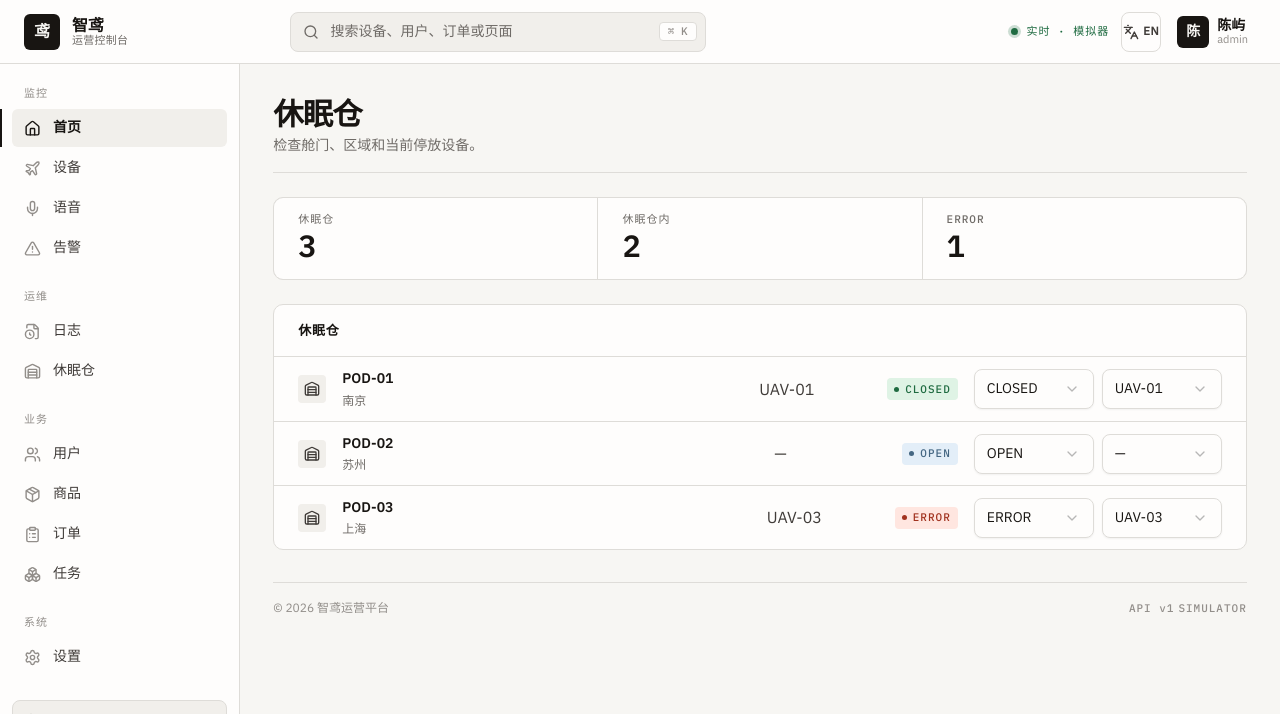
Test case: OperationsView · pods › lists pods and saves a door change
Expected: the 1st heading "休眠仓" is shown, [273, 94, 362, 133]
Select "OPEN" in the dropdown named "POD-01 舱门状态": (1034, 389) [974, 369, 1094, 409]
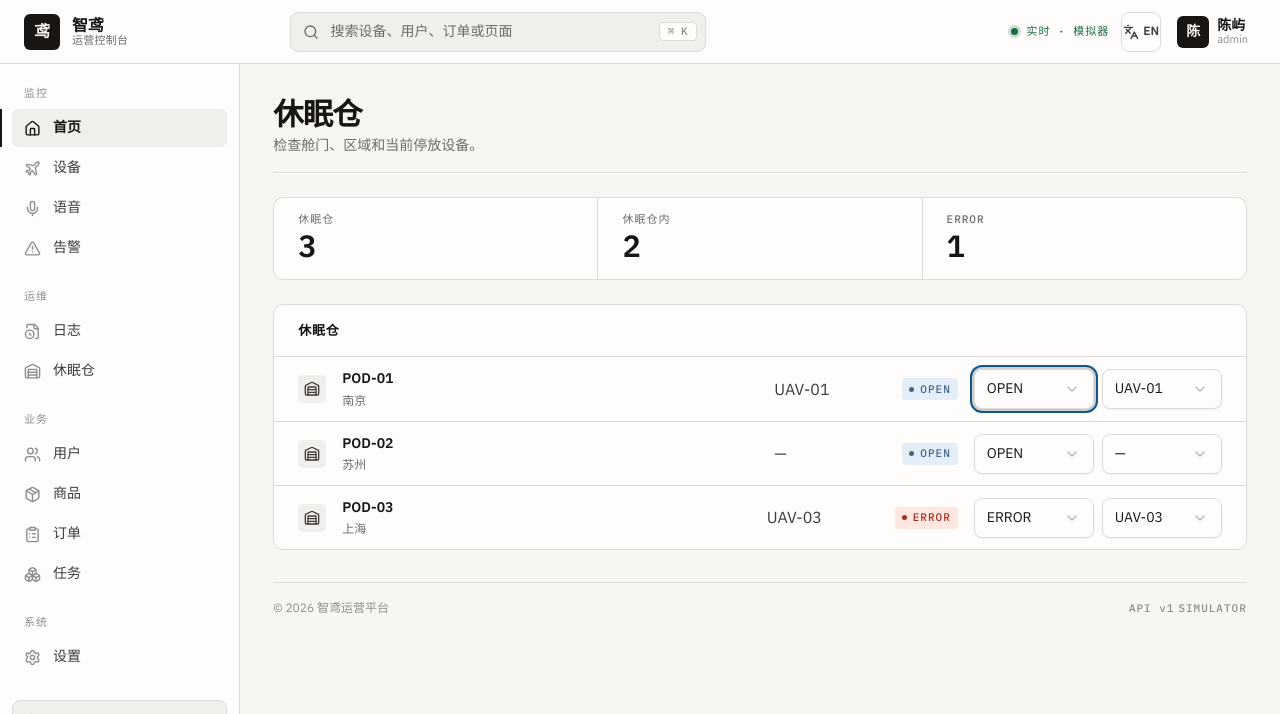
Now the element showing "OPEN" next to "UAV-01" is shown, box [920, 382, 951, 396]
